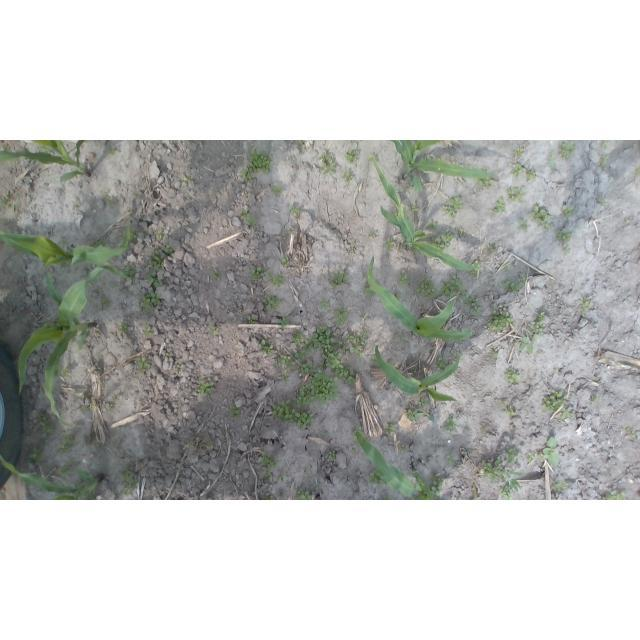Maize: (17, 267, 111, 429), (366, 155, 474, 270), (367, 254, 472, 340), (0, 219, 132, 268), (351, 430, 439, 500), (387, 140, 493, 194), (373, 344, 461, 404), (0, 453, 100, 500), (0, 140, 92, 184)
Weeds: (305, 368, 341, 405), (322, 350, 357, 383), (304, 325, 337, 353), (272, 400, 300, 425), (500, 468, 526, 492), (486, 310, 514, 332), (120, 468, 141, 497), (530, 206, 554, 231), (542, 388, 566, 412), (440, 274, 463, 299), (249, 149, 272, 174), (37, 411, 58, 437), (544, 436, 561, 468), (428, 230, 454, 250), (442, 197, 463, 219), (140, 290, 162, 310), (481, 459, 500, 482), (195, 380, 219, 398), (416, 276, 437, 296), (297, 411, 316, 432), (475, 169, 494, 190), (328, 268, 349, 286), (320, 151, 336, 174), (558, 140, 576, 160), (506, 186, 527, 203), (430, 474, 445, 497), (347, 330, 368, 346), (148, 250, 164, 271), (464, 296, 482, 314), (293, 388, 309, 408), (416, 404, 436, 420), (498, 279, 520, 293), (370, 470, 388, 487), (262, 295, 282, 310), (260, 453, 279, 468), (351, 423, 365, 443), (503, 368, 520, 384), (579, 298, 593, 317), (444, 414, 457, 434), (259, 339, 275, 355), (332, 308, 348, 324), (135, 357, 150, 374), (499, 486, 517, 500), (281, 354, 296, 370), (268, 272, 284, 287), (557, 229, 573, 244), (510, 163, 525, 179), (146, 272, 163, 286), (469, 260, 483, 277), (525, 321, 543, 334), (520, 337, 533, 355), (604, 490, 627, 500), (30, 447, 45, 462), (59, 462, 73, 478), (121, 264, 136, 278), (405, 405, 418, 421), (364, 281, 377, 297), (506, 447, 518, 463), (553, 479, 569, 491), (493, 197, 505, 213), (561, 204, 573, 220), (296, 489, 313, 500), (61, 433, 75, 446), (293, 349, 306, 363), (561, 408, 575, 421), (0, 193, 12, 208), (299, 362, 314, 374), (547, 150, 556, 170), (437, 356, 448, 372), (230, 406, 243, 419), (250, 267, 263, 280), (104, 191, 115, 206), (526, 168, 537, 183), (343, 171, 354, 186), (272, 183, 283, 198), (385, 421, 397, 434), (292, 332, 304, 345), (346, 150, 358, 163), (57, 444, 72, 454), (517, 273, 527, 288), (277, 316, 289, 328), (240, 168, 252, 180), (338, 340, 349, 353), (242, 215, 255, 226), (289, 205, 302, 216), (129, 230, 140, 243), (211, 269, 222, 282), (383, 238, 394, 250), (119, 322, 130, 334), (398, 274, 408, 287), (349, 348, 363, 357), (111, 393, 122, 404), (142, 326, 153, 337), (318, 301, 330, 311), (518, 219, 528, 231), (512, 147, 524, 157), (506, 408, 519, 417), (107, 145, 117, 156), (426, 221, 438, 230), (525, 452, 535, 462), (446, 455, 456, 465), (626, 427, 636, 437), (163, 244, 173, 254), (96, 239, 107, 248), (101, 298, 112, 307), (536, 311, 545, 322), (600, 156, 609, 167), (328, 450, 336, 462), (12, 202, 21, 212), (50, 317, 60, 326), (274, 357, 283, 367), (208, 325, 218, 334), (279, 256, 289, 265), (419, 396, 430, 404), (418, 155, 432, 161), (539, 454, 548, 463), (592, 396, 601, 405), (62, 366, 70, 376), (281, 371, 289, 381), (399, 444, 409, 452), (410, 202, 418, 212), (601, 142, 611, 150), (263, 472, 274, 479), (398, 331, 405, 342), (245, 317, 256, 324), (277, 473, 286, 481), (491, 348, 499, 357), (367, 154, 377, 161), (487, 245, 495, 253), (597, 198, 605, 206), (454, 352, 461, 361), (349, 244, 356, 253), (406, 184, 415, 191), (564, 247, 571, 256), (462, 288, 467, 300), (156, 229, 162, 239), (81, 390, 88, 398), (61, 237, 69, 244), (84, 435, 92, 442), (370, 358, 378, 365), (396, 292, 403, 300), (458, 228, 465, 236), (371, 229, 378, 237), (393, 210, 400, 218), (76, 481, 85, 487), (502, 264, 511, 270), (434, 155, 441, 162), (2, 219, 10, 225), (107, 406, 115, 412), (531, 334, 539, 340), (501, 400, 507, 408), (398, 243, 404, 251), (384, 496, 393, 501), (184, 177, 191, 183), (297, 140, 304, 146), (277, 495, 285, 500), (81, 406, 89, 411), (176, 364, 180, 373), (308, 470, 314, 476), (636, 165, 640, 174), (0, 145, 6, 151), (165, 352, 174, 356), (553, 369, 560, 374), (317, 484, 323, 489), (264, 272, 270, 277), (623, 217, 629, 222), (513, 341, 518, 346), (264, 496, 270, 500), (595, 375, 601, 379), (241, 209, 247, 213), (352, 448, 359, 451), (50, 465, 55, 469), (350, 140, 359, 142), (324, 432, 330, 435), (190, 306, 194, 310), (558, 311, 562, 315), (287, 230, 291, 234)
